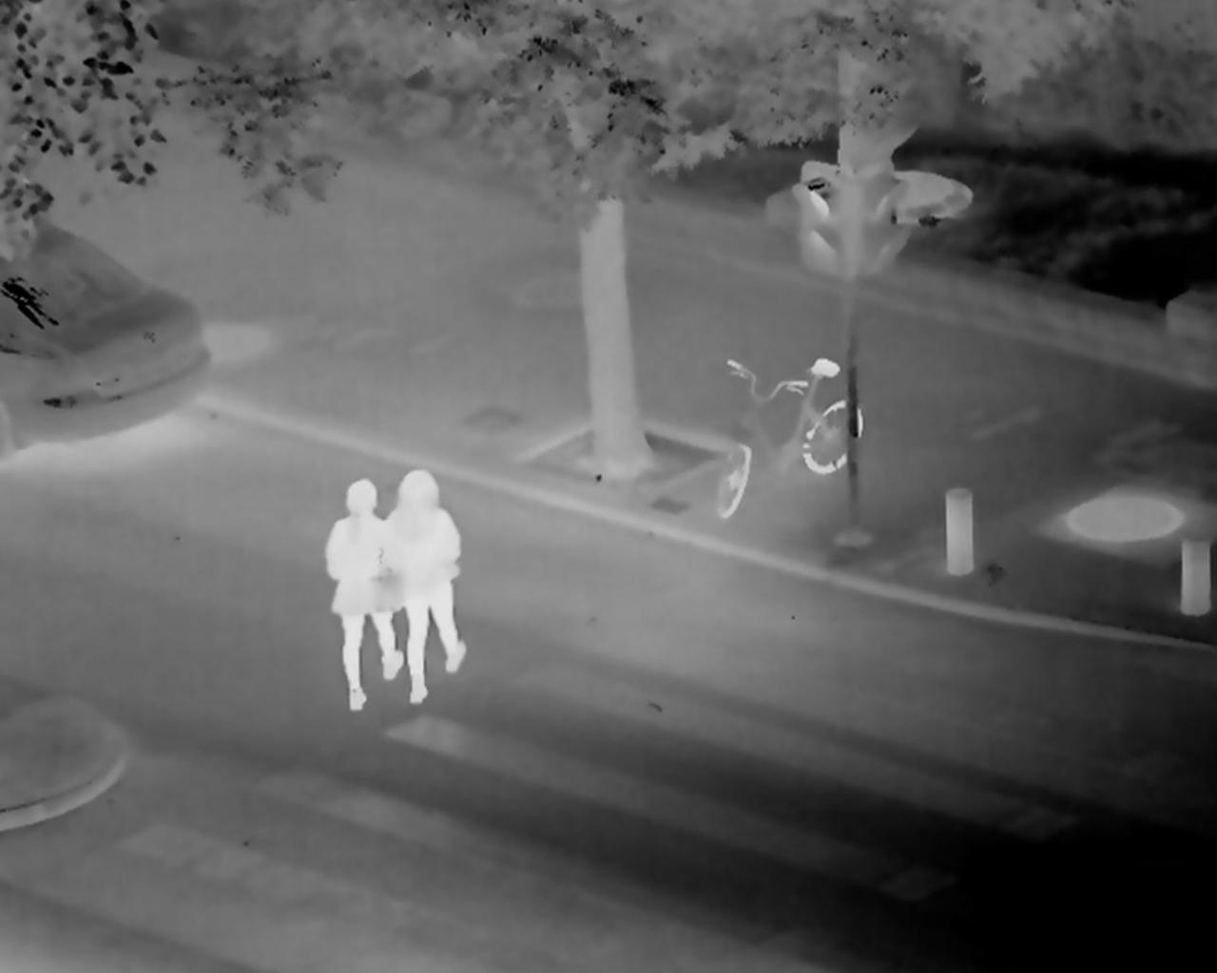person: (380, 469, 467, 712), (324, 481, 403, 714)
